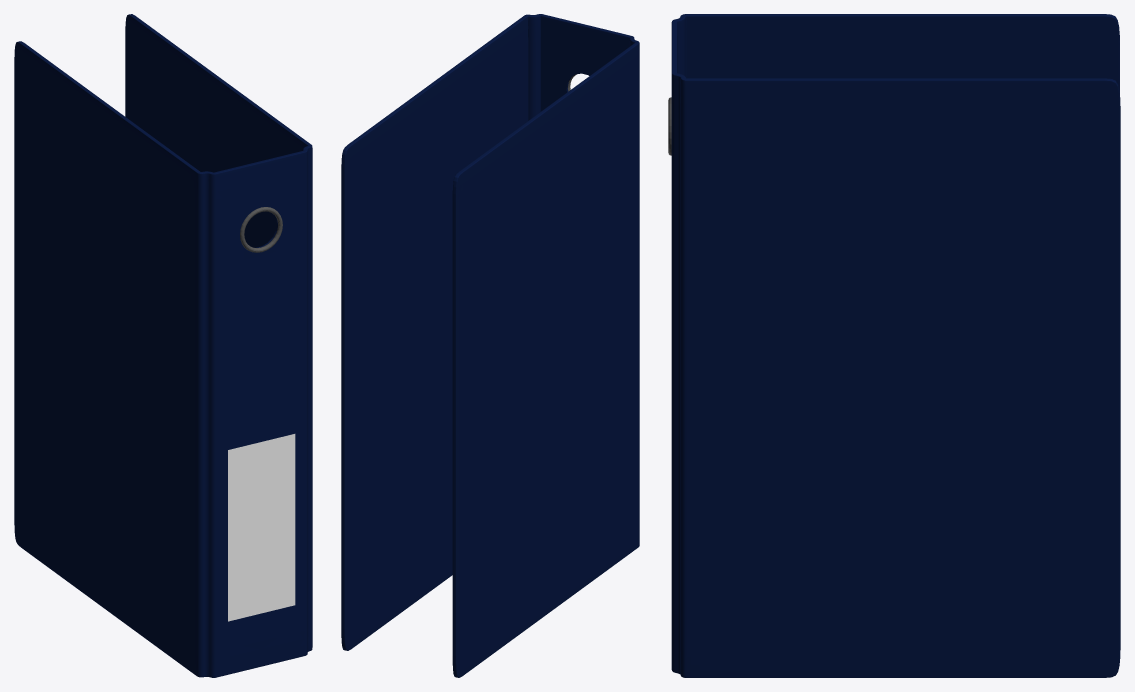
The model's file is folder.fbx.
The picture shows the model from 3 angles, left to right: view 1: azimuth 30°, elevation 25°; view 2: azimuth 150°, elevation 25°; view 3: azimuth 270°, elevation 25°; orthographic projection. The views are drawn at different scales.
Visible parts, largest first — view 1: freepolygon.com; view 2: freepolygon.com; view 3: freepolygon.com.
Boxes of the visible parts, box(x1,y1,x2,y2) form: freepolygon.com: box(14, 14, 312, 677); freepolygon.com: box(341, 14, 639, 677); freepolygon.com: box(668, 14, 1120, 677).
Size of the model in its own units: 1.19 by 4.96 by 3.4.
